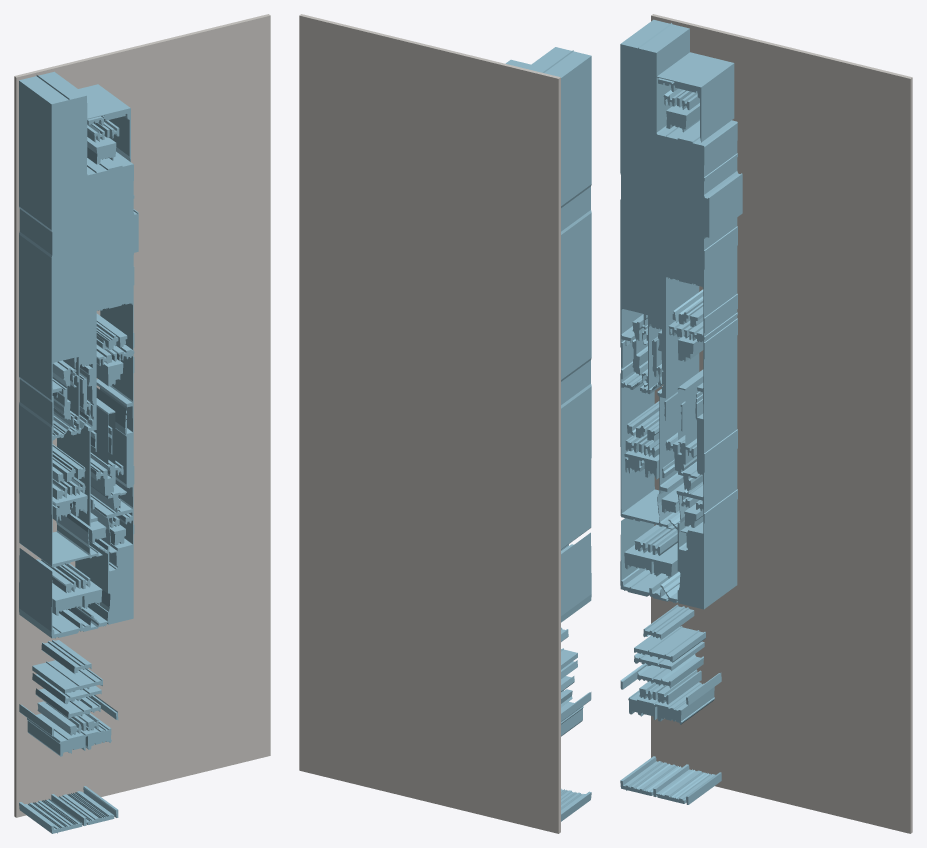
3 views of the same model, side by side, from view 1: azimuth 30°, elevation 25°; view 2: azimuth 150°, elevation 25°; view 3: azimuth 330°, elevation 25° (orthographic). The views are drawn at different scales.
Visible parts, largest first — view 1: world; view 2: world; view 3: world.
Boxes of the visible parts, x1,y1,x2,y2 form: world: (14, 14, 270, 833); world: (299, 14, 591, 833); world: (620, 14, 912, 833).
Bounding box in the file's own units: 10.23 × 28.44 × 2.43.
